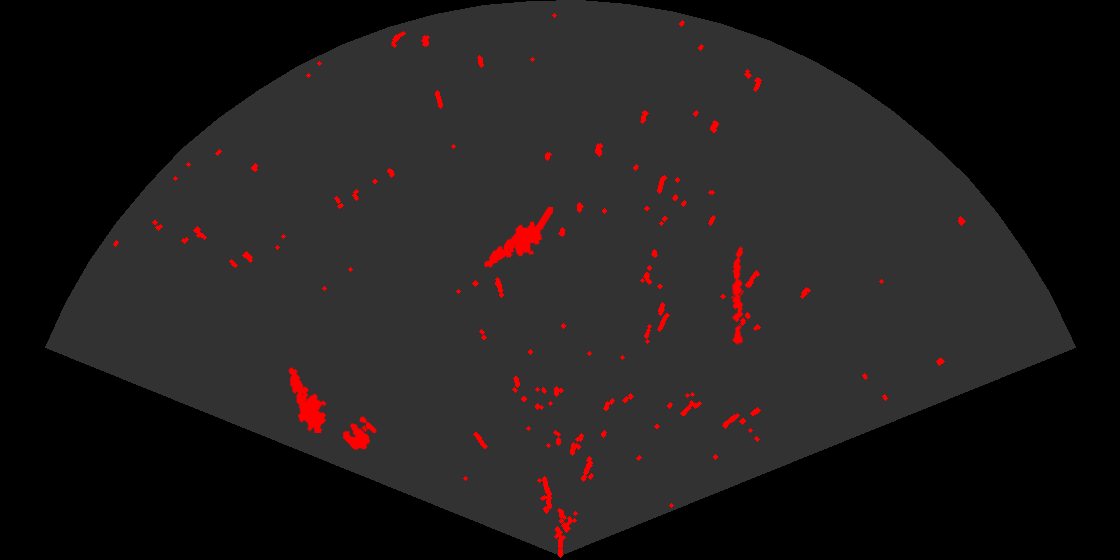ball: (341, 415, 378, 451)
chain: (731, 245, 745, 345)
frogman: (482, 207, 553, 269), (287, 366, 328, 433)
